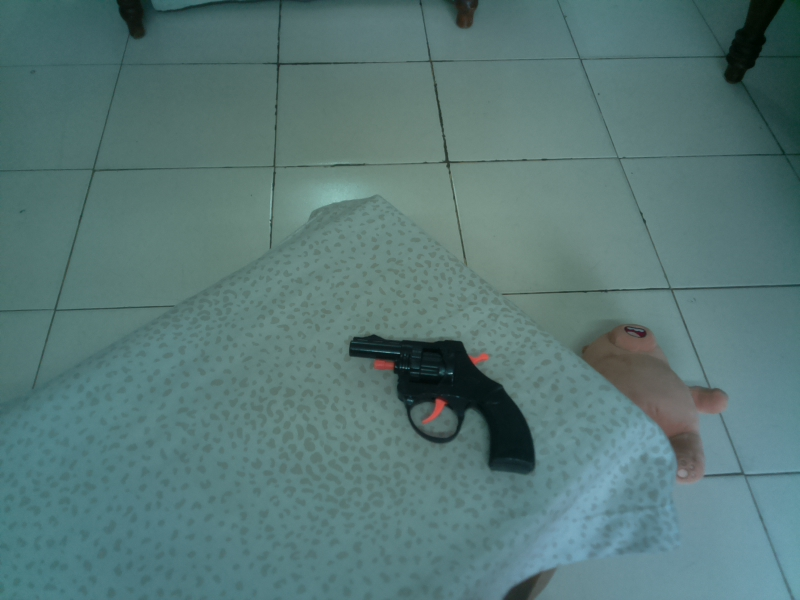Gun: (343, 328, 541, 477)
